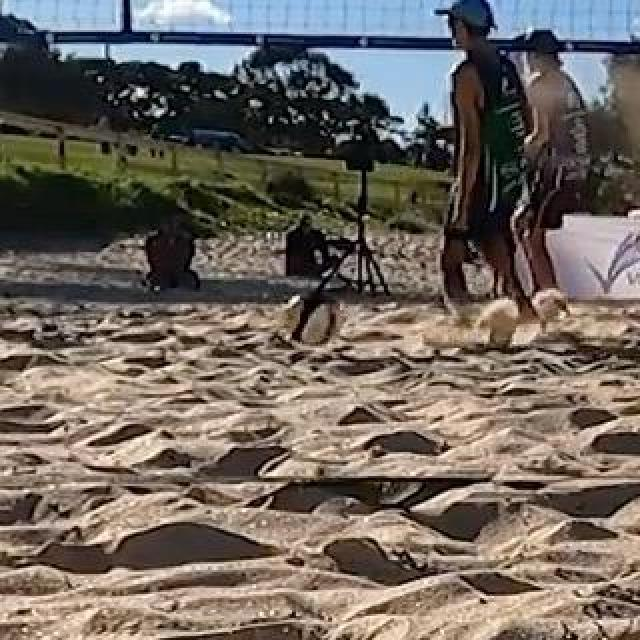volleyball: (284, 291, 342, 343)
